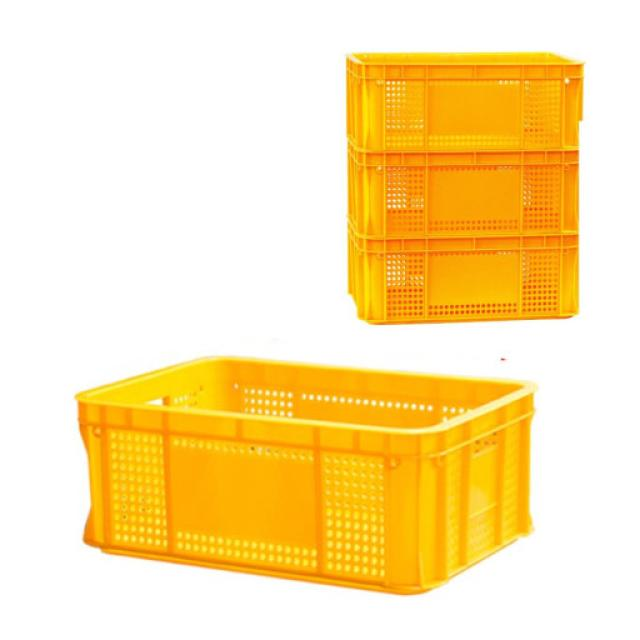basket: (62, 346, 543, 605), (348, 226, 579, 328), (346, 144, 580, 243), (348, 53, 583, 149)
